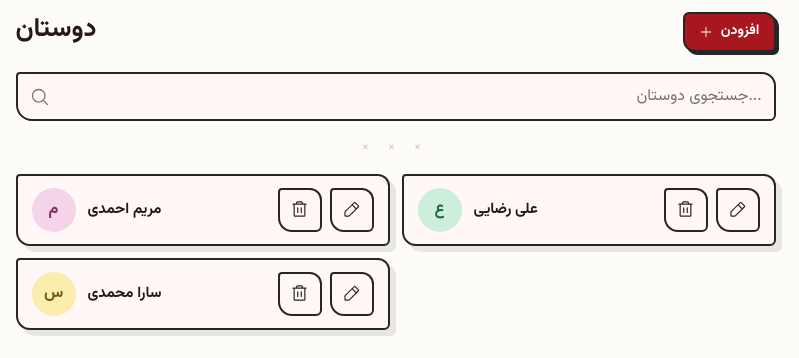
Test: FriendsPage › shows the empty-search state (not the empty-list state) when nothing matches
Check: the text "مریم احمدی" is shown, box [88,198,162,221]
In the field with placeholder "جستجوی دوستان...": [410, 96] box [58,74,762,119], type "ناموجود"
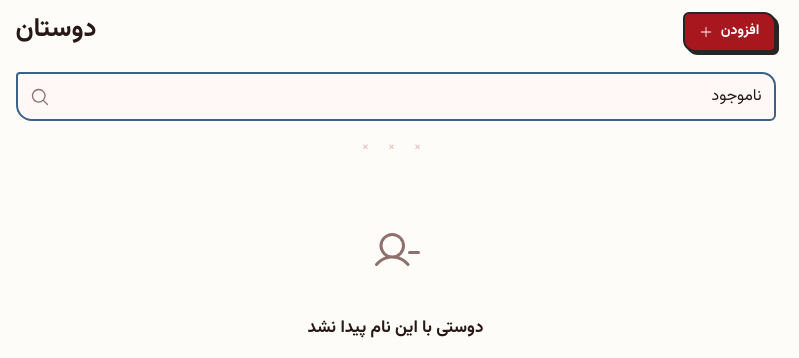
Check: the heading "دوستی با این نام پیدا نشد" is shown, box [308,315,483,342]
